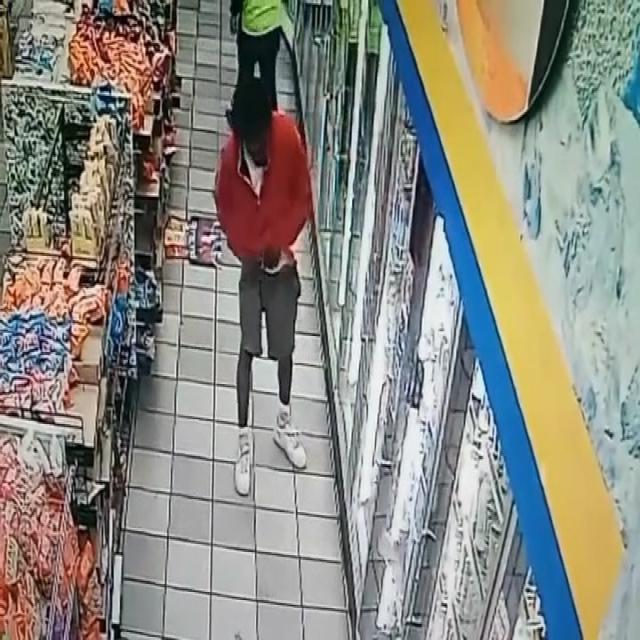Shoplifting: (212, 86, 318, 489)
